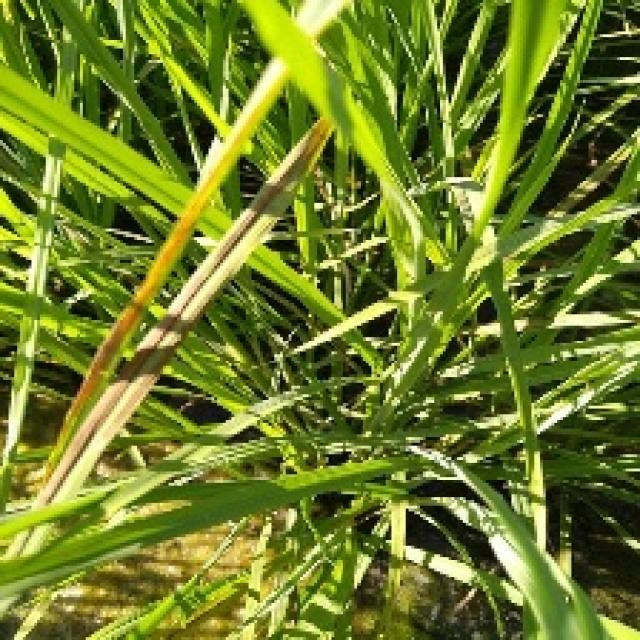Unhealthy: (31, 113, 325, 511), (103, 285, 220, 442), (66, 277, 160, 422), (155, 208, 199, 269)
